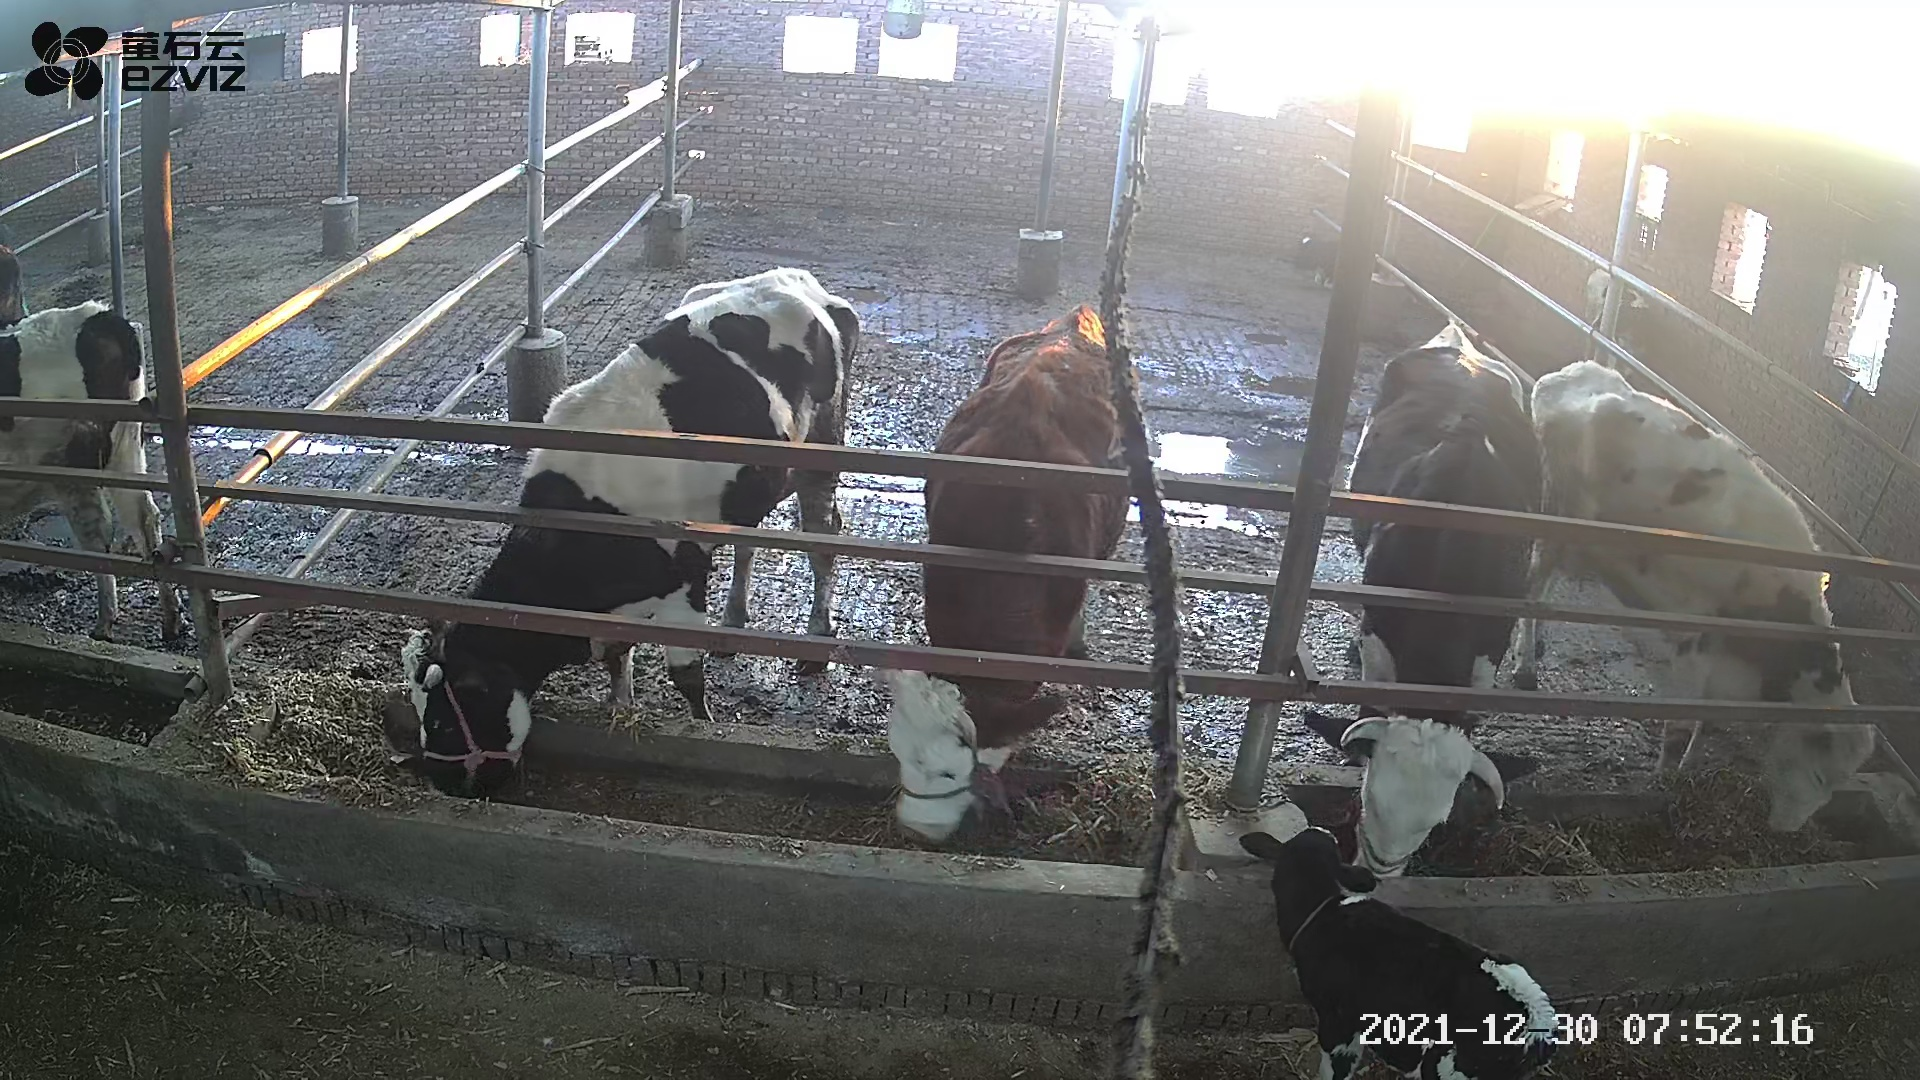cow: (400, 266, 858, 798), (1532, 357, 1876, 841), (862, 298, 1142, 843), (1302, 313, 1544, 876)
